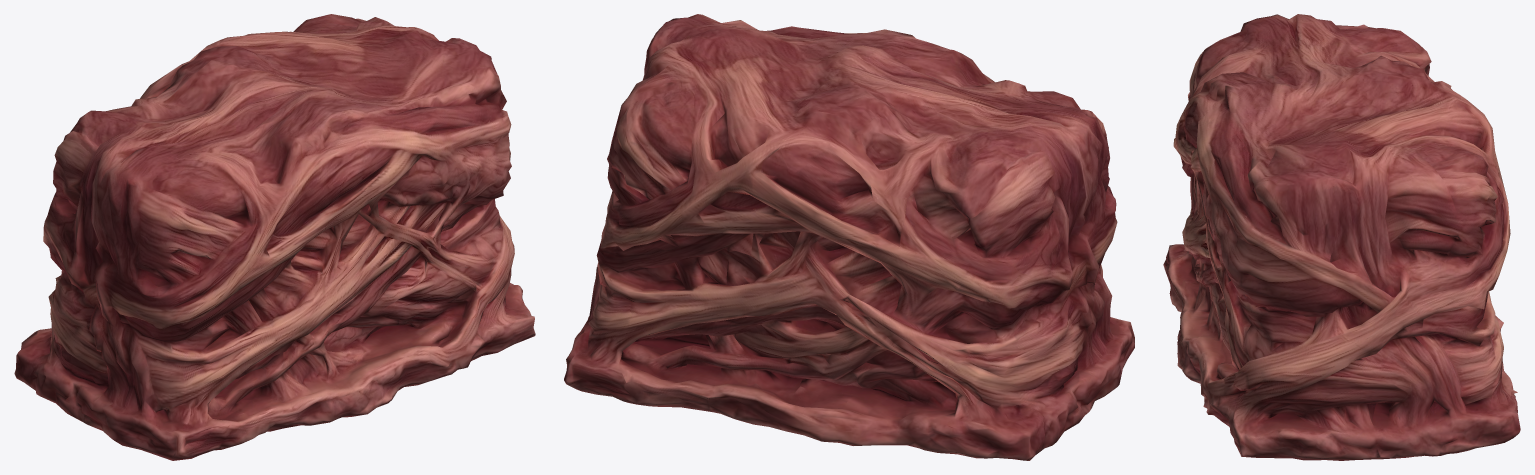
Rendered from muscle_tissue_3d_model.fbx.
3 renders of one model, left to right at view 1: azimuth 30°, elevation 25°; view 2: azimuth 150°, elevation 25°; view 3: azimuth 270°, elevation 25°, orthographic. The views are drawn at different scales.
Visible parts, largest first — view 1: tripo_node_f6b5875f; view 2: tripo_node_f6b5875f; view 3: tripo_node_f6b5875f.
Boxes of the visible parts, <box> form: tripo_node_f6b5875f: <box>14,14,535,460</box>; tripo_node_f6b5875f: <box>564,14,1134,460</box>; tripo_node_f6b5875f: <box>1163,14,1520,460</box>.
Bounding box in the file's own units: 1 × 0.6335 × 0.712.
1 material, 1 textured.
